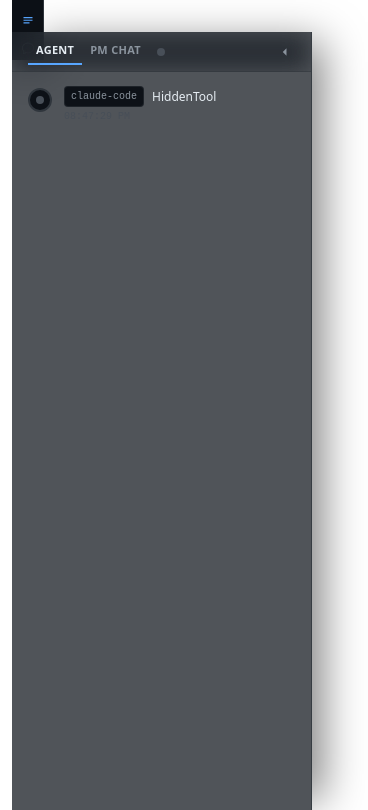
Test: AgentSidebar: collapse and expand › after collapse, event list is not visible
The width and height of the screenshot is (368, 810).
Click the button named "collapse agent sidebar" at (285, 52), box [275,42,295,62]
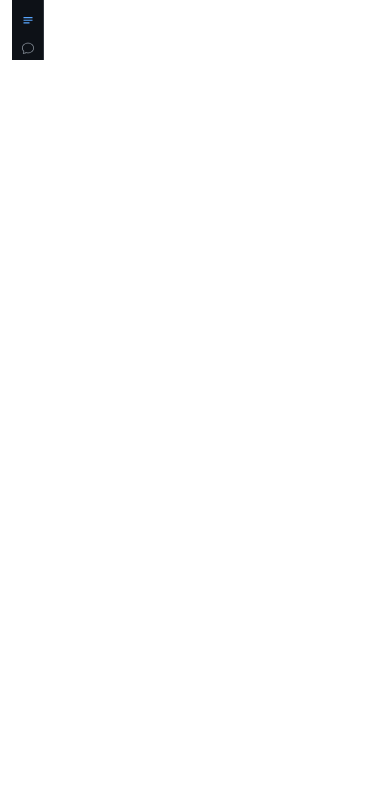
Check: the text "HiddenTool" is gone
